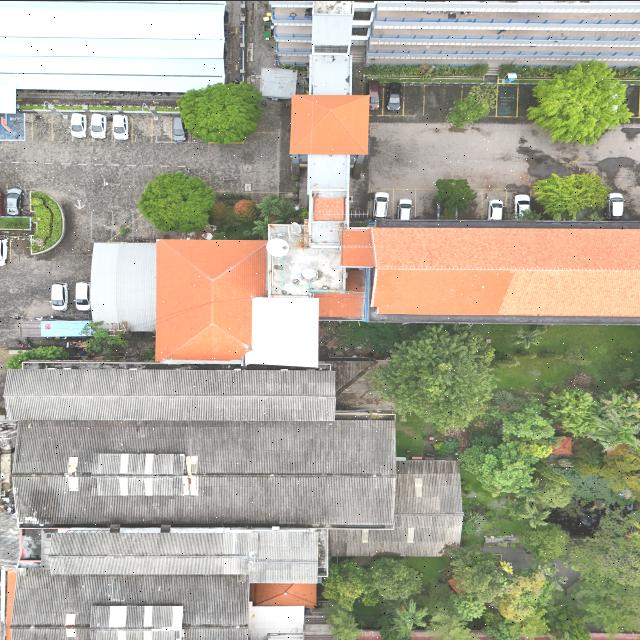Tree: (365, 320, 502, 430), (525, 62, 627, 142), (181, 84, 260, 142), (143, 173, 215, 227), (366, 551, 424, 605), (532, 172, 608, 210), (441, 88, 494, 128), (516, 502, 556, 526)
